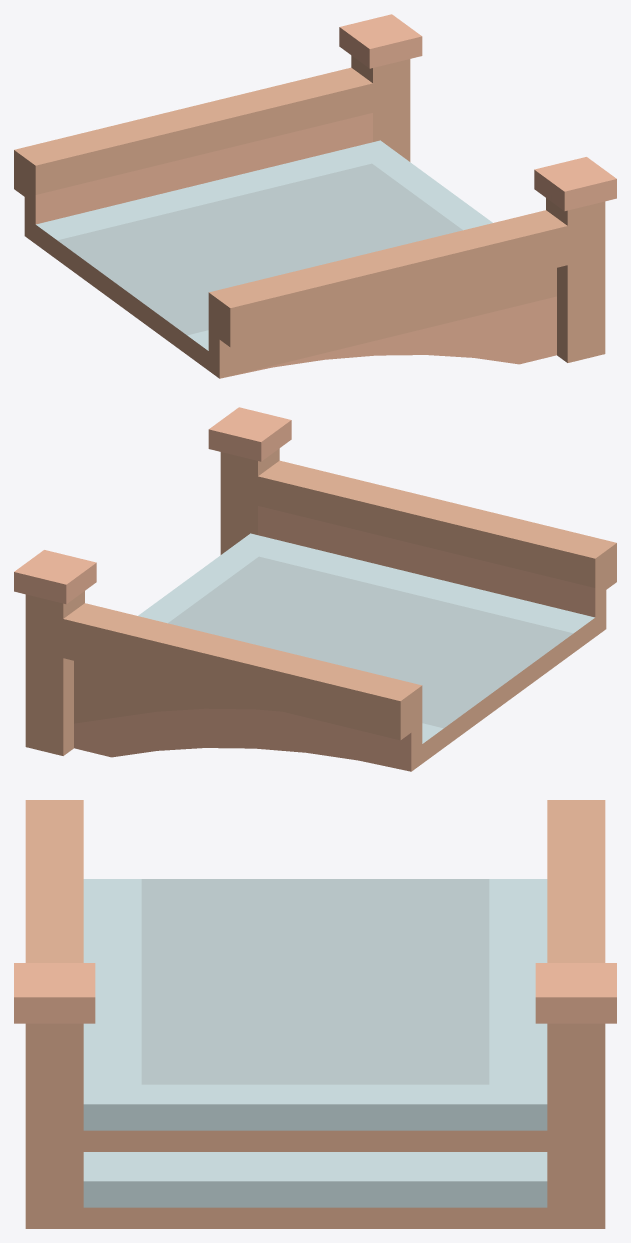
The model's file is bridge_side_woodRound.gltf.
The picture shows the model from 3 angles, top to bottom: view 1: azimuth 30°, elevation 25°; view 2: azimuth 150°, elevation 25°; view 3: azimuth 270°, elevation 25°; orthographic projection. The views are drawn at different scales.
Visible parts, largest first — view 1: bridge_side_woodRound; view 2: bridge_side_woodRound; view 3: bridge_side_woodRound.
Boxes of the visible parts, <box> form: bridge_side_woodRound: <box>14,14,616,378</box>; bridge_side_woodRound: <box>14,407,616,771</box>; bridge_side_woodRound: <box>14,800,616,1228</box>.
Size of the model in its own units: 1.02 by 0.45 by 1.04.
